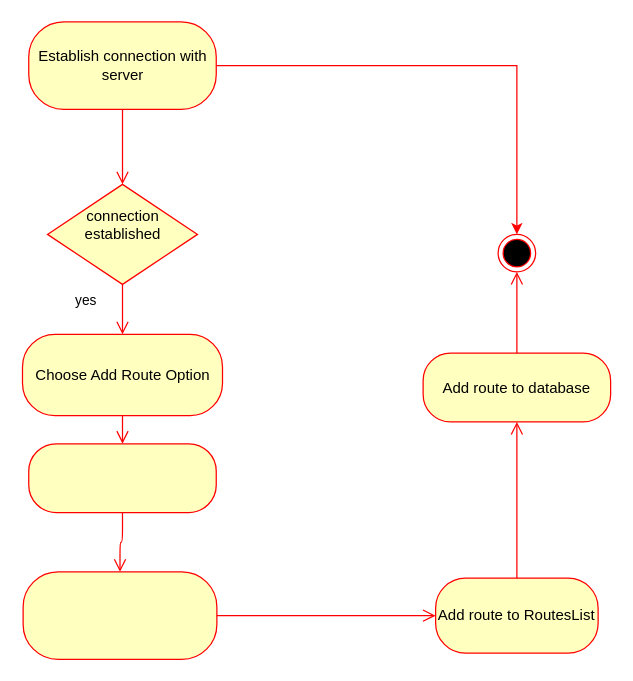
The diagram is 633 pixels wide and 681 high, and some of its shapes have lost their labels. The shapes that lost their labels are listed below. From the top down, each one's centre as x and y in pixels, then its label:
point (122, 477): Send option to server
point (119, 615): Send new route data to server
